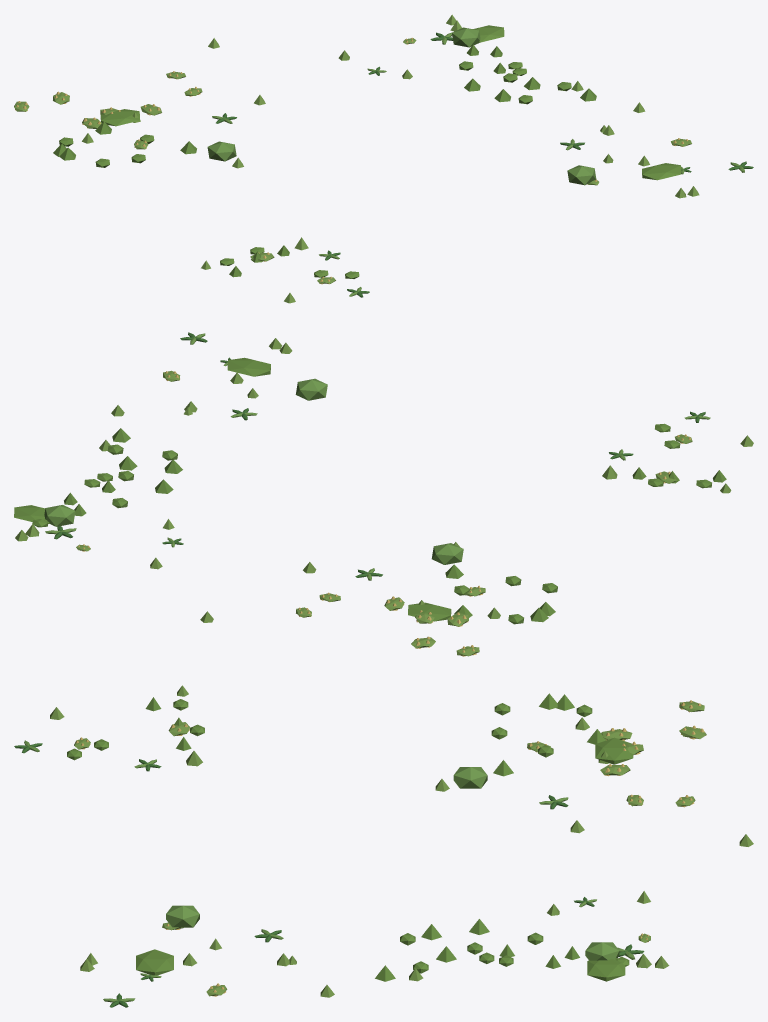
The model's file is forgotten_orchard_gate_nonsolid_props.fbx.
3 views of the same model, one above another, from view 1: azimuth 30°, elevation 25°; view 2: azimuth 150°, elevation 25°; view 3: azimuth 270°, elevation 25° (orthographic). The views are drawn at different scales.
Parts seen in each view (by area): view 1: chunk_forgotten_orchard_gate__PropsNonSolid; view 2: chunk_forgotten_orchard_gate__PropsNonSolid; view 3: chunk_forgotten_orchard_gate__PropsNonSolid.
Boxes of the visible parts, x1=… form: chunk_forgotten_orchard_gate__PropsNonSolid: x1=14, y1=14, x2=753, y2=303; chunk_forgotten_orchard_gate__PropsNonSolid: x1=14, y1=332, x2=753, y2=656; chunk_forgotten_orchard_gate__PropsNonSolid: x1=14, y1=685, x2=753, y2=1007.
Size of the model in its own units: 184 by 7.28 by 185.
